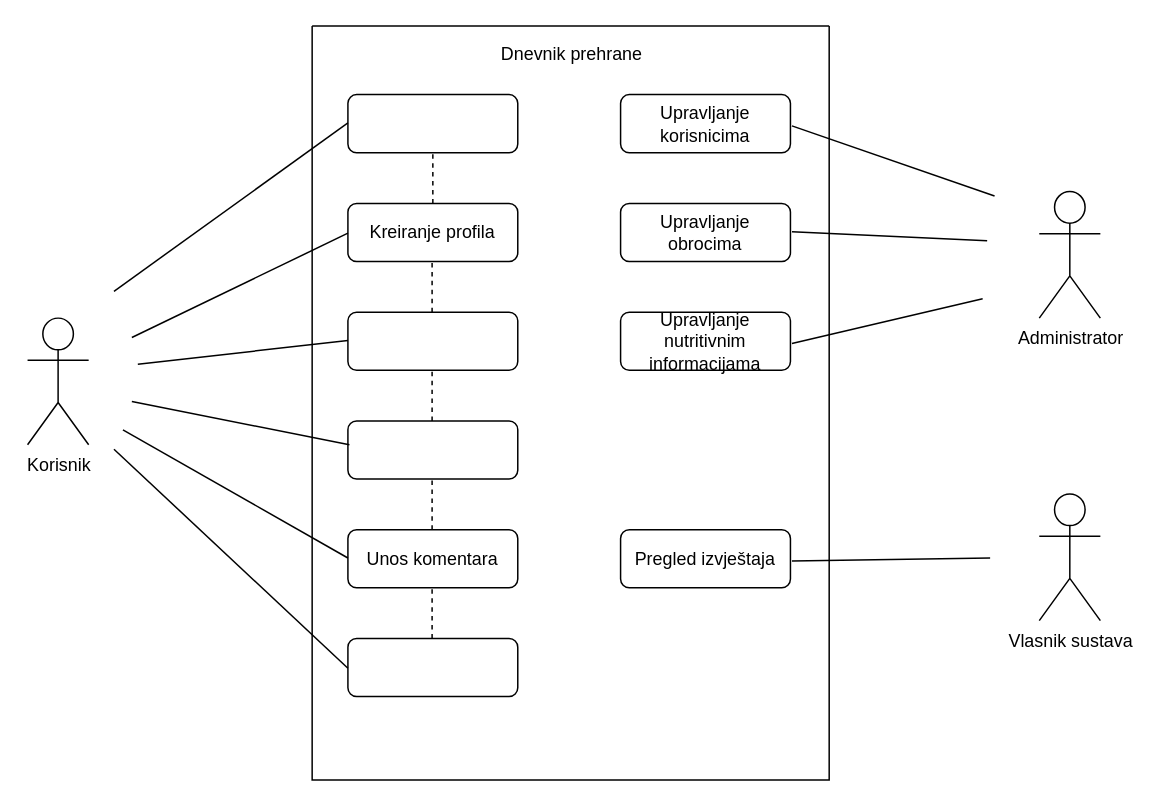
Some shapes in this 1158 by 806 pixel diagram are drawn without their labels. The shapes that lost their labels are listed below. From the top down, each one's box as (x1, y1, x2, y2) in pixels, then its label:
(346, 93, 518, 153): Registracija i prijava
(346, 311, 518, 370): Pregled dnevnika prehrane
(346, 419, 518, 479): Unos obroka
(346, 637, 518, 697): Praćenje napretka
